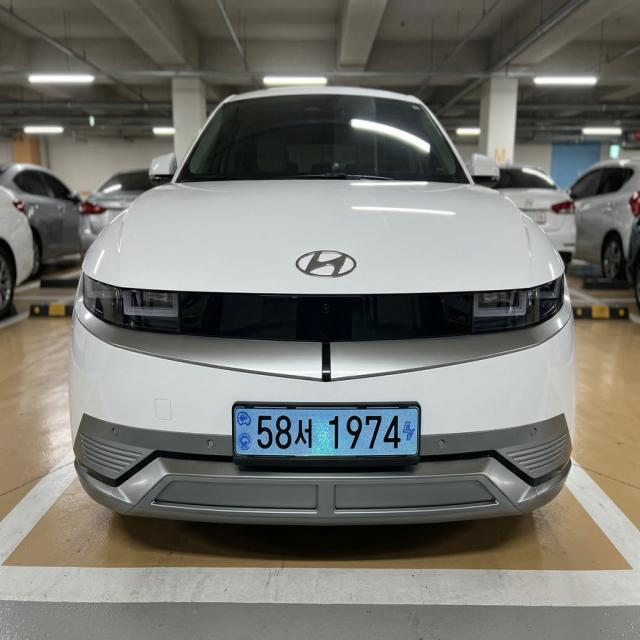car: (209, 383, 443, 482)
carev: (236, 407, 255, 457), (401, 406, 419, 458)
